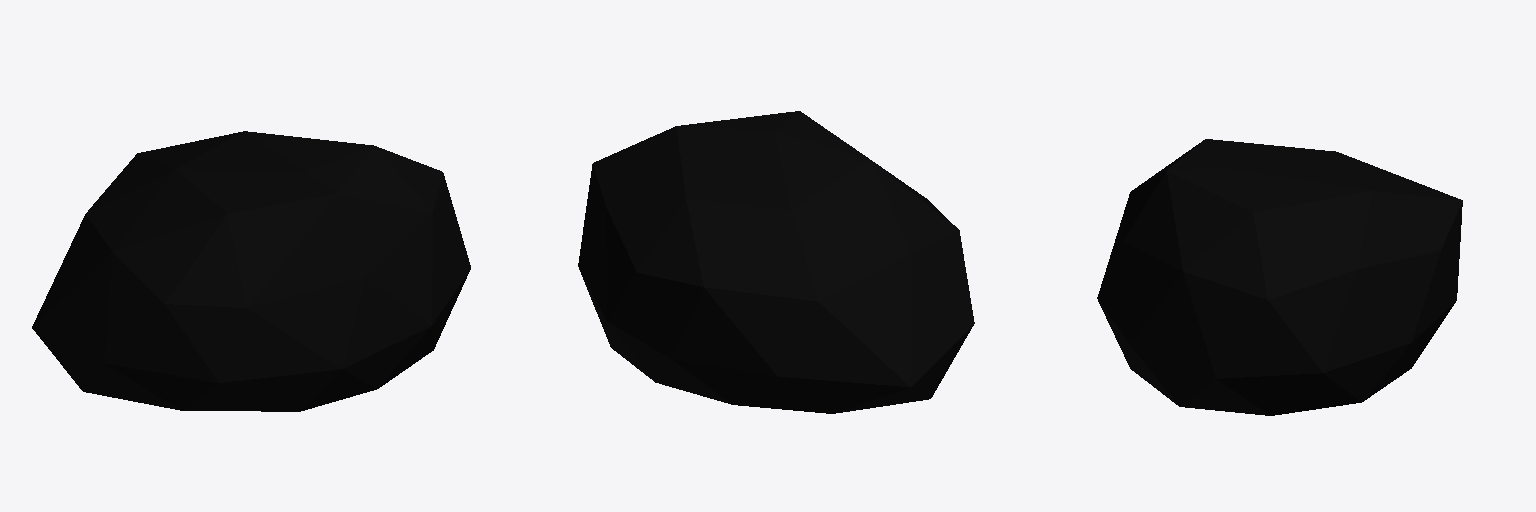
The model's file is rock00.obj.
3 views of the same model, side by side, from view 1: azimuth 30°, elevation 25°; view 2: azimuth 150°, elevation 25°; view 3: azimuth 270°, elevation 25° (orthographic).
Parts seen in each view (by area): view 1: caillou1_Icosphere; view 2: caillou1_Icosphere; view 3: caillou1_Icosphere.
Boxes of the visible parts, x1=… form: caillou1_Icosphere: x1=32, y1=131, x2=470, y2=411; caillou1_Icosphere: x1=578, y1=111, x2=974, y2=413; caillou1_Icosphere: x1=1097, y1=139, x2=1462, y2=415.
Size of the model in its own units: 0.8107 by 0.416 by 0.6999.